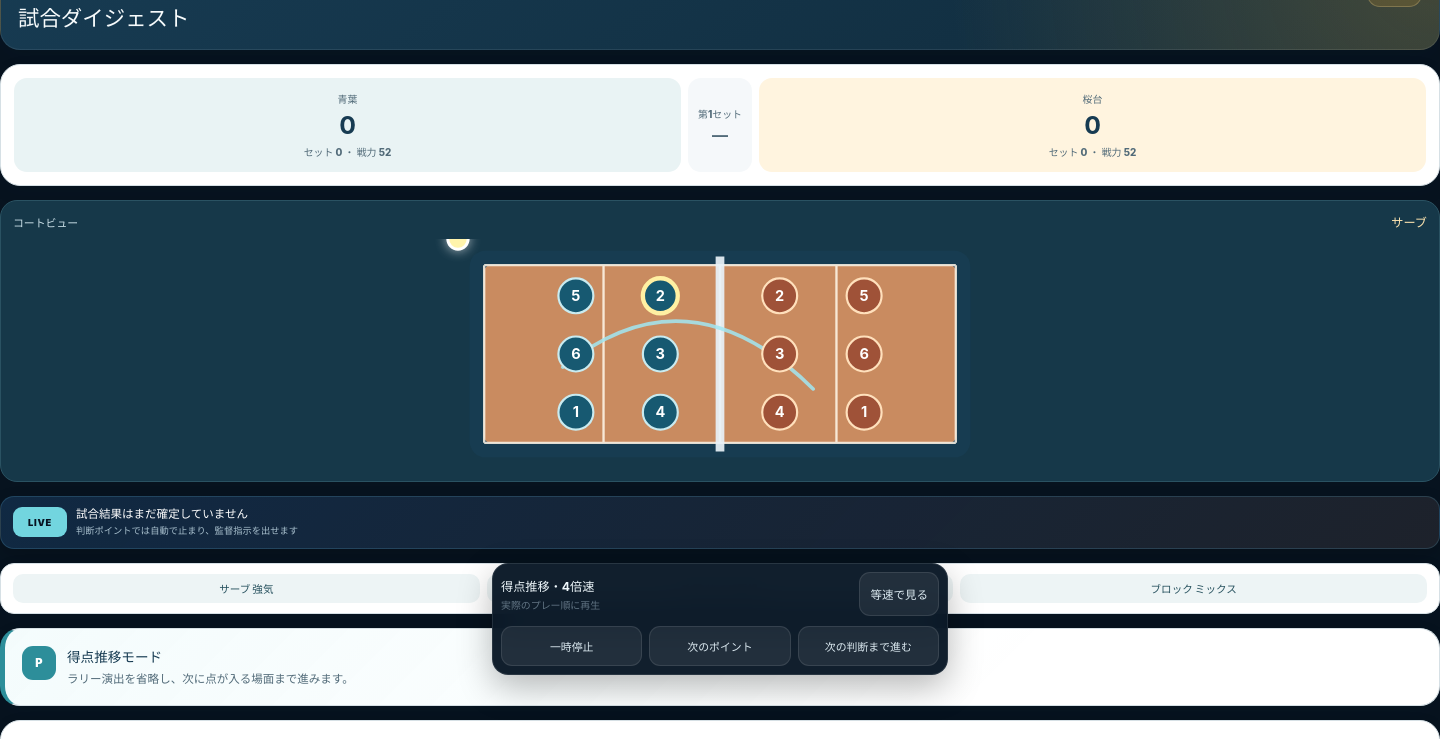
Phase16 MatchScreen authoritative playback › reveals only the current authoritative segment before showing the coach decision
Click the button "次の判断まで進む": (868,646) [798,626,939,666]
(page scrolled)
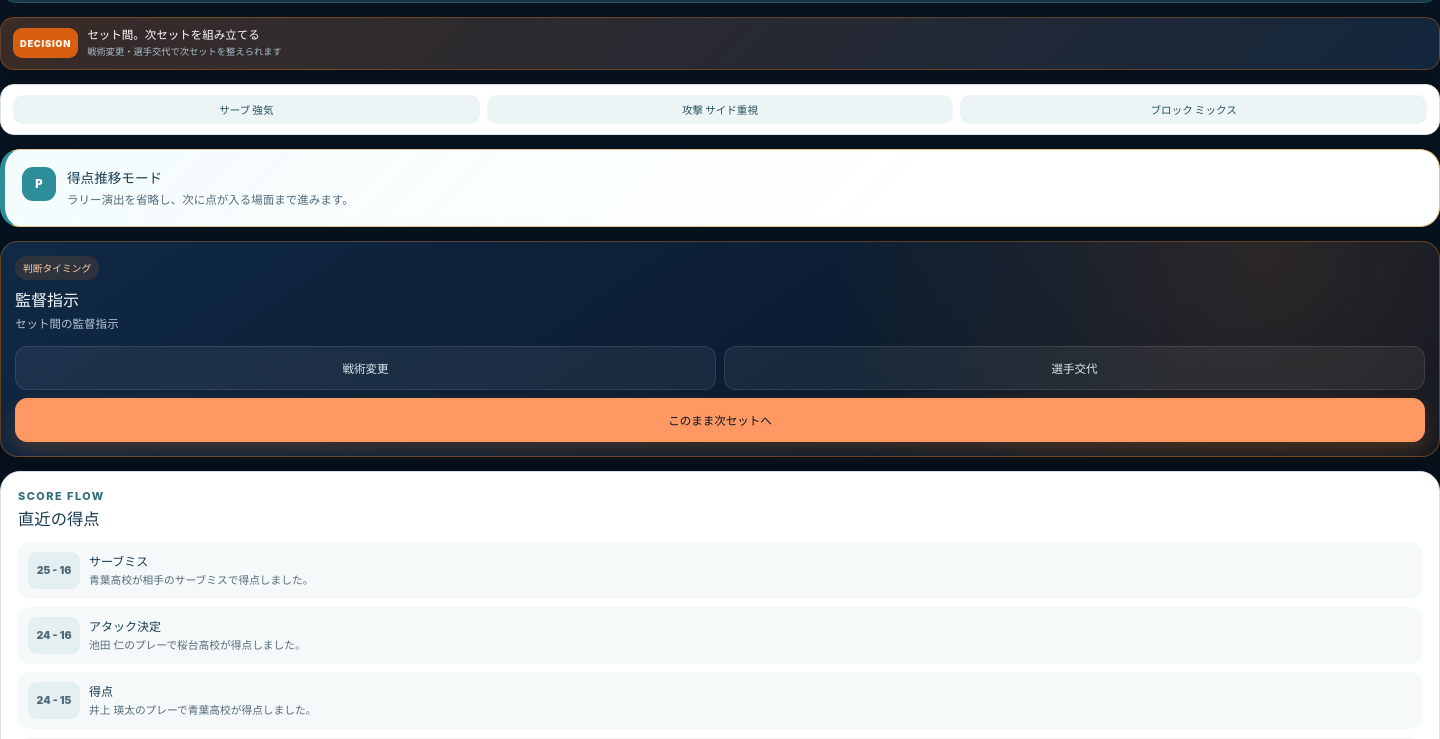
Expected: the element "監督指示" is shown, [0,241,1439,457]
Expected: the element "再生操作" is gone
Expected: the text "試合結果" is gone
